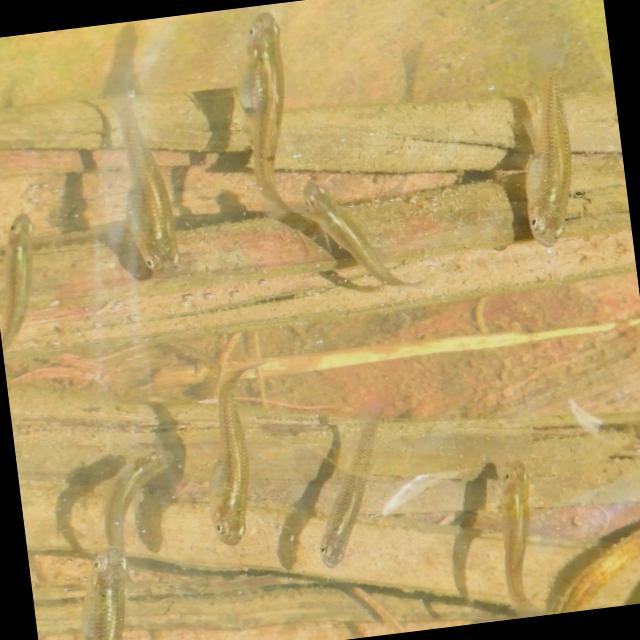Sivrisinek Baligi: (86, 80, 201, 282), (232, 4, 322, 224), (306, 400, 411, 568), (290, 169, 422, 300), (189, 353, 277, 548), (502, 59, 586, 251), (470, 448, 557, 616)
